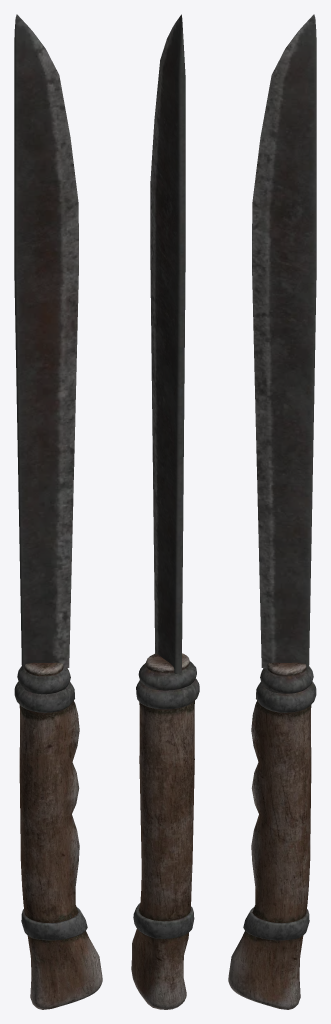
File: machete.glb
3 renders of one model, left to right at view 1: azimuth 90°, elevation 25°; view 2: azimuth 210°, elevation 25°; view 3: azimuth 270°, elevation 25°, orthographic.
Visible parts, largest first — view 1: machete; view 2: machete; view 3: machete.
Boxes of the visible parts, x1,y1,x2,y2 form: machete: (14,14,102,1009); machete: (131,14,199,1009); machete: (228,14,316,1009).
Bounding box in the file's own units: 0.0444 × 0.7548 × 0.0611.
1 material, 1 textured.
